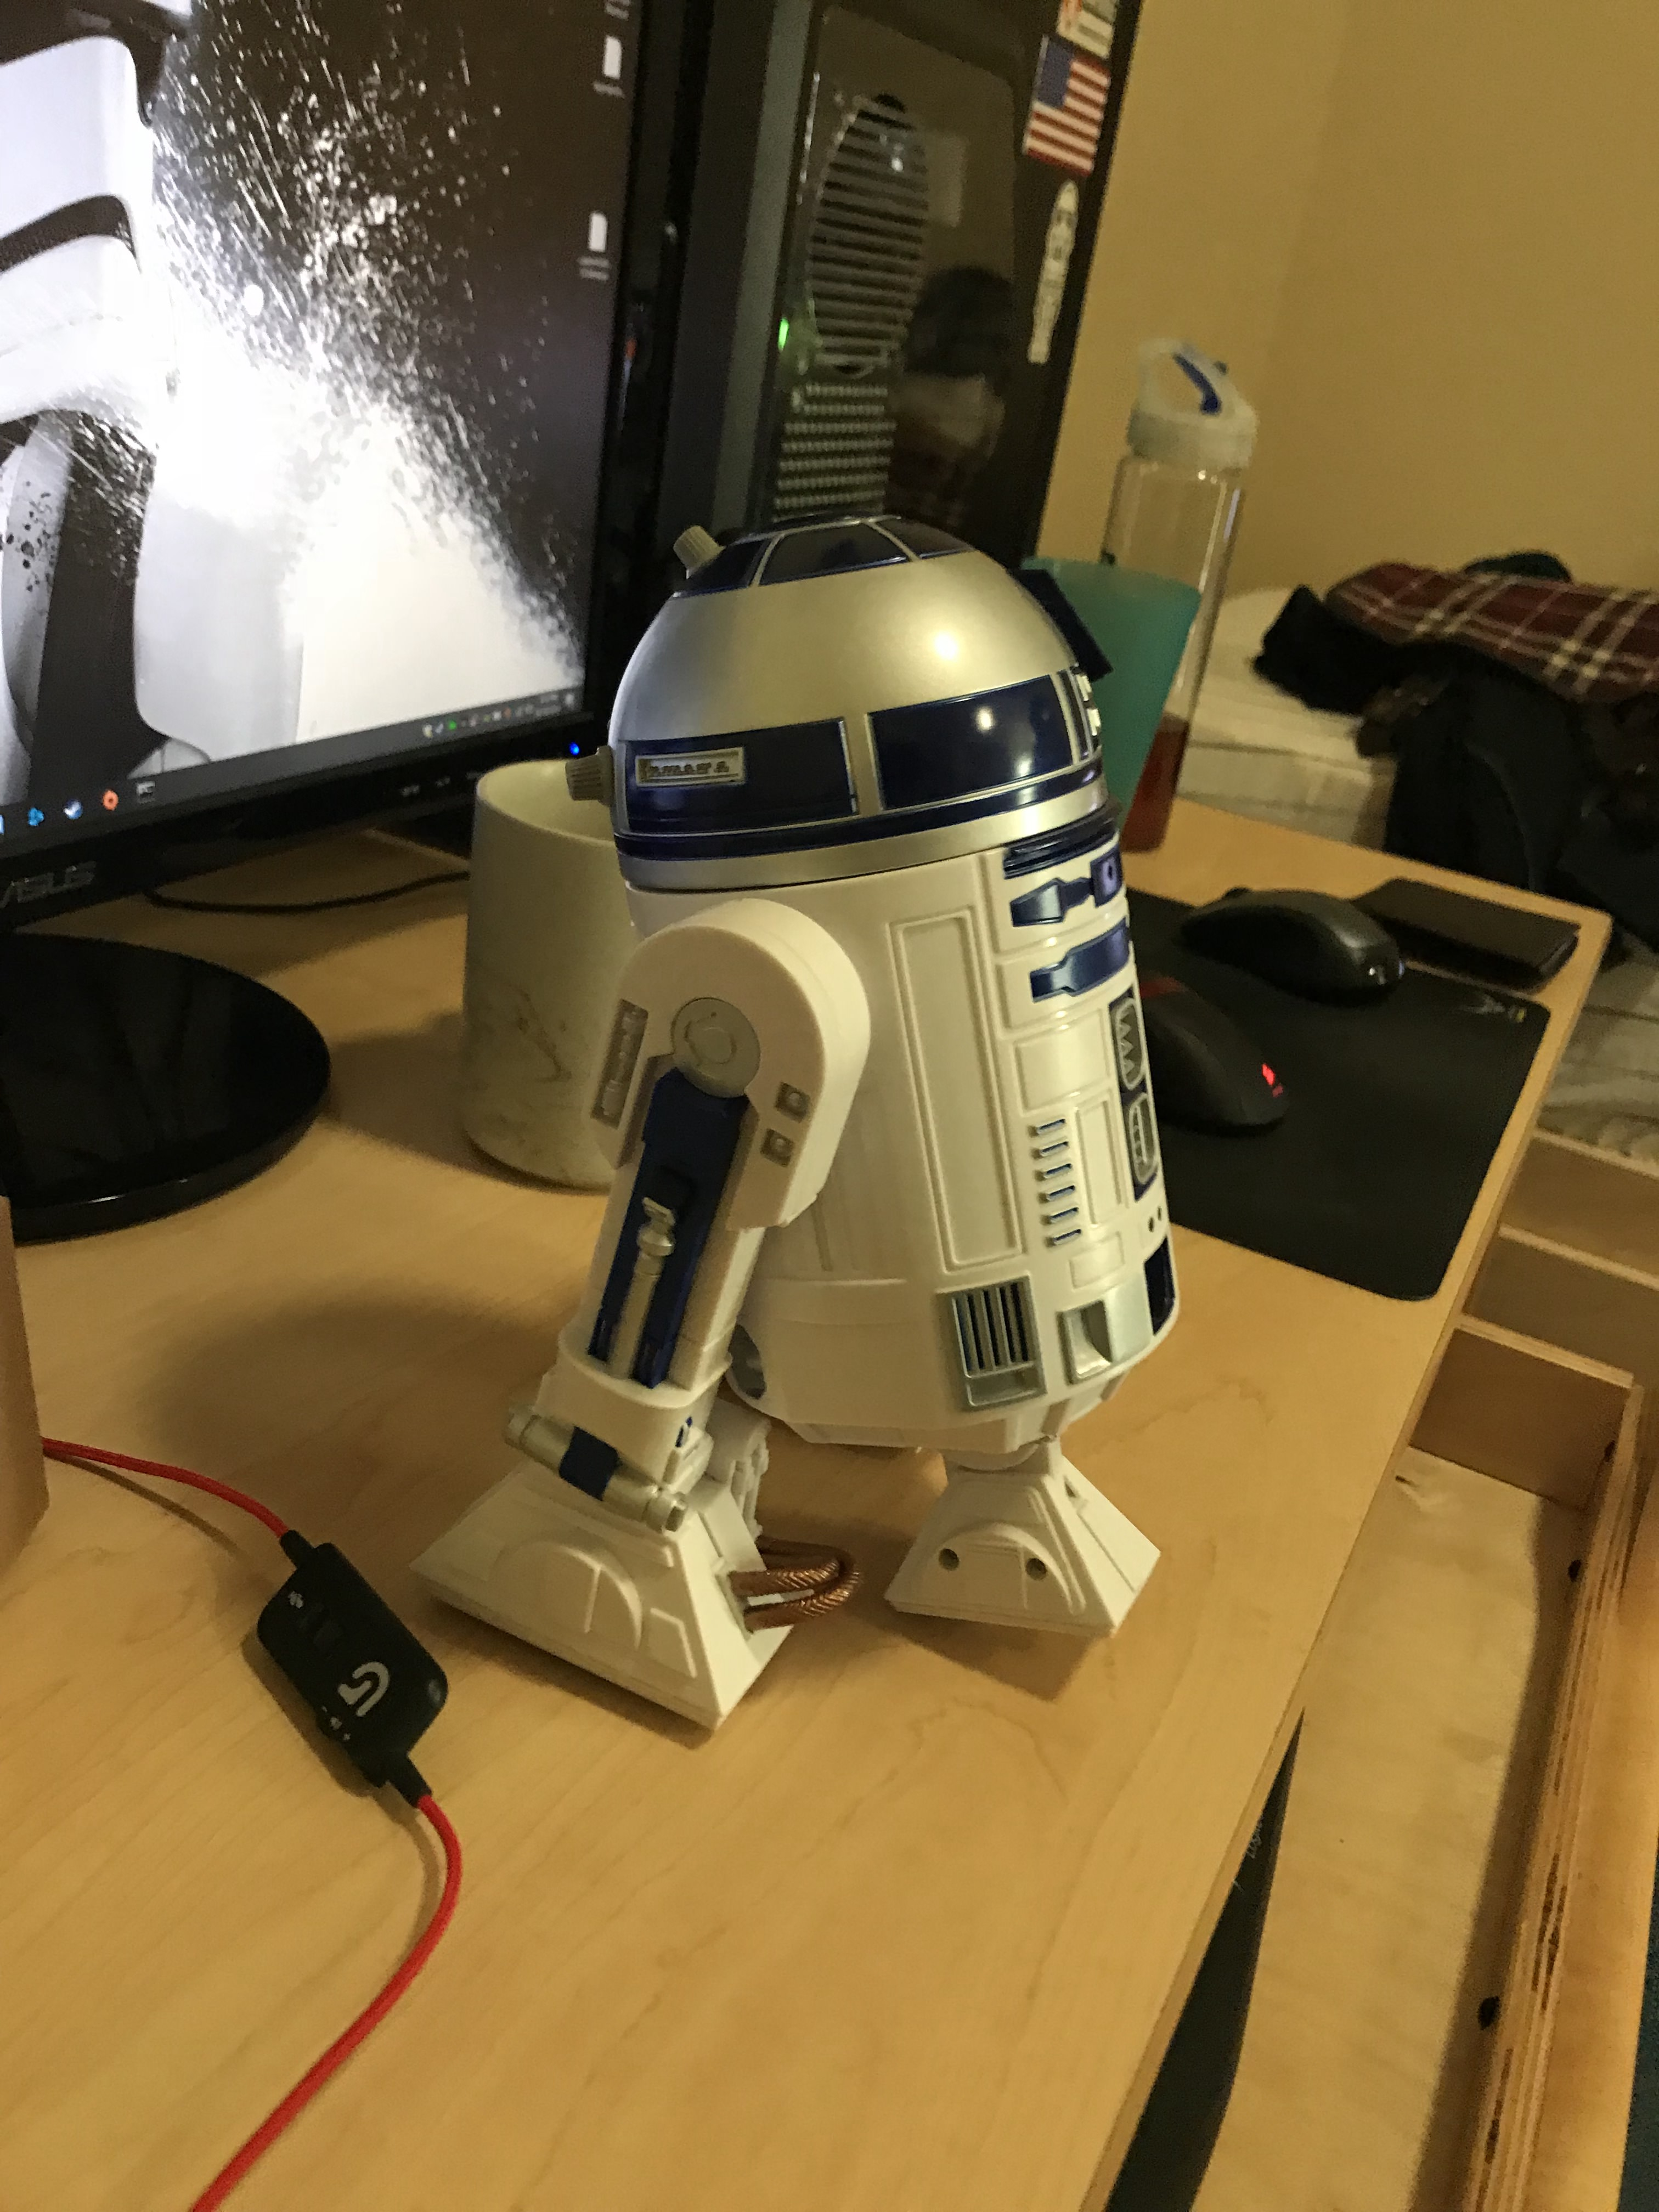r2d2: (408, 503, 1190, 1728)
